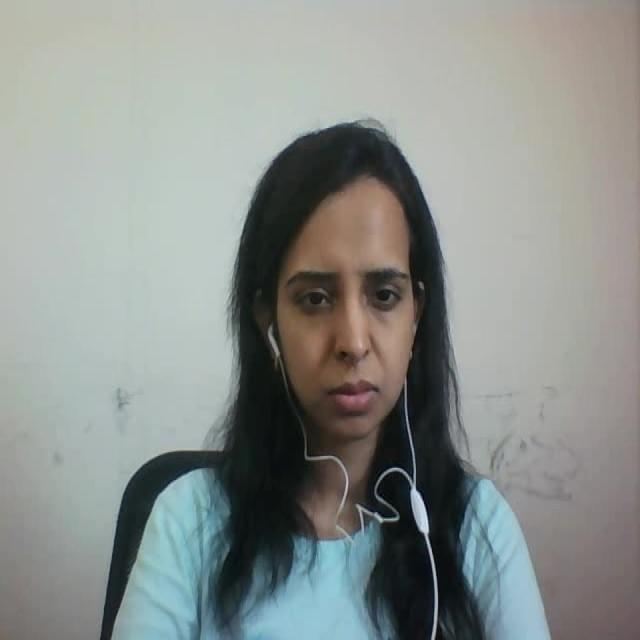Engaged: (216, 120, 483, 478)
